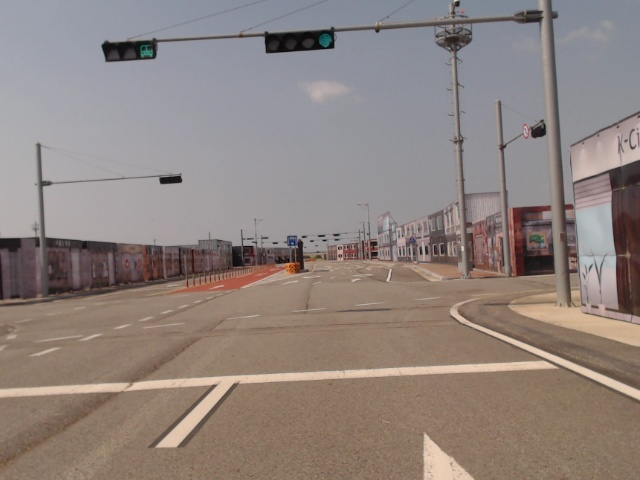straight_green_4: (265, 30, 336, 52)
